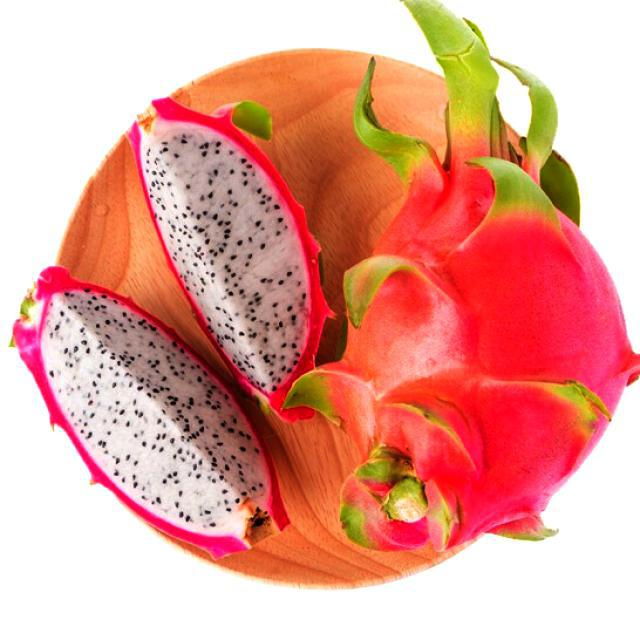trang: (327, 0, 639, 555), (5, 262, 285, 556), (127, 98, 329, 421)
